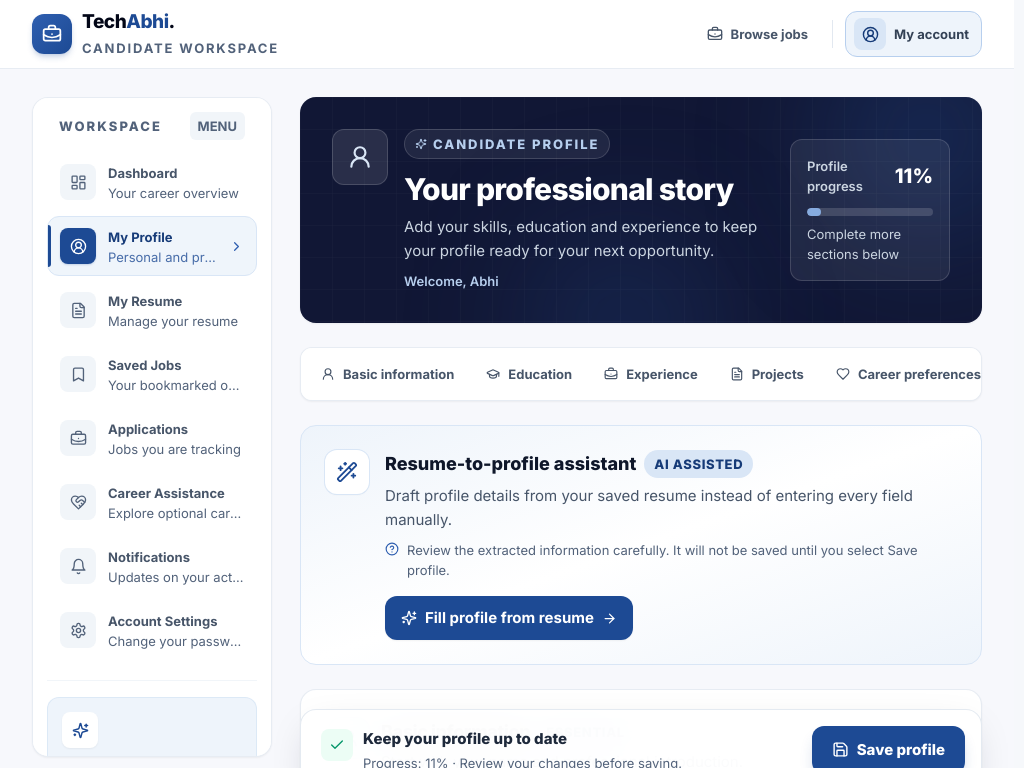
Test: candidate area › profile: AI draft shows warnings and is NOT saved until Save
Later steps or results of the test are not shown.
Click the button "Fill profile from resume" at (509, 618), box [385, 596, 633, 640]
(page scrolled)
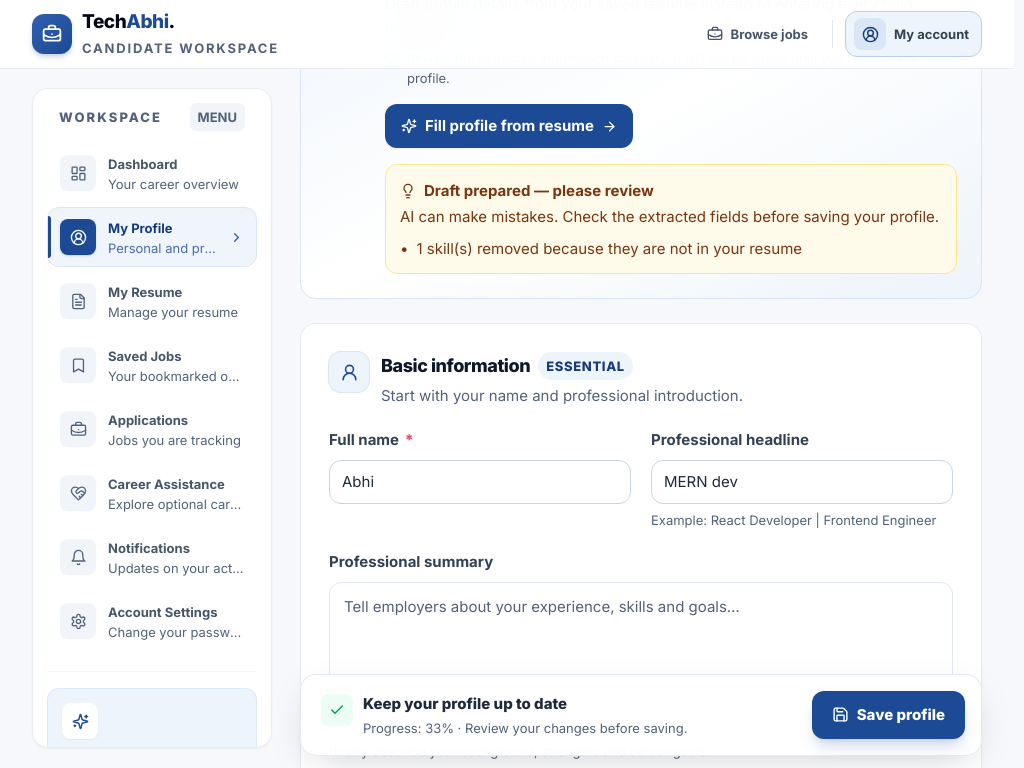
expect the text "1 skill(s) removed" is shown: met, box [416, 239, 802, 258]
expect the field showing "MERN dev" is shown: met, box [651, 460, 953, 504]
